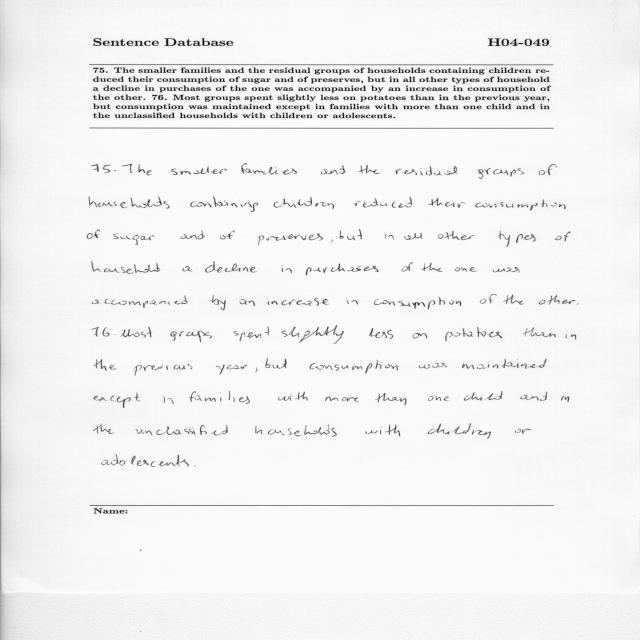word: (92, 295, 188, 308), (281, 325, 344, 344), (310, 360, 398, 373), (374, 297, 461, 310), (102, 454, 189, 467), (475, 199, 566, 211), (190, 197, 258, 212), (255, 425, 337, 437), (89, 197, 170, 209), (428, 424, 491, 439), (136, 425, 228, 435), (92, 261, 160, 274), (306, 264, 379, 276), (462, 359, 547, 369), (445, 327, 502, 341), (189, 391, 250, 404), (258, 234, 323, 246), (273, 197, 334, 209), (94, 393, 141, 408), (135, 364, 193, 376), (395, 166, 458, 176), (355, 197, 412, 208), (241, 164, 297, 175), (498, 231, 536, 247), (205, 262, 257, 273), (478, 168, 524, 179), (171, 166, 227, 175), (234, 327, 270, 341), (267, 298, 329, 306), (113, 233, 154, 245), (170, 331, 212, 342), (365, 425, 400, 437), (464, 391, 503, 401), (428, 198, 466, 208), (376, 393, 407, 405), (216, 364, 247, 375), (122, 164, 152, 175), (523, 328, 556, 338), (438, 231, 474, 240), (539, 295, 575, 304), (121, 327, 152, 337), (278, 392, 308, 401), (369, 328, 393, 339), (340, 230, 363, 241), (520, 392, 547, 401), (94, 359, 116, 370), (321, 165, 345, 175), (180, 231, 205, 240), (265, 359, 287, 369), (422, 262, 443, 272), (212, 295, 226, 310), (503, 295, 524, 305), (93, 424, 114, 434), (539, 165, 557, 176), (359, 165, 380, 174), (91, 164, 111, 173), (91, 327, 110, 336), (325, 397, 359, 402), (419, 363, 447, 369), (480, 294, 496, 304), (556, 232, 571, 242), (220, 231, 235, 240), (493, 267, 520, 272), (404, 233, 423, 240), (87, 229, 100, 239), (402, 262, 413, 272), (455, 267, 477, 272), (240, 299, 255, 306), (428, 396, 449, 401), (413, 333, 428, 339), (515, 429, 531, 434), (164, 397, 174, 404), (282, 268, 292, 274), (566, 334, 576, 340), (347, 300, 358, 305), (385, 234, 394, 240), (182, 267, 192, 272), (561, 396, 569, 402), (255, 367, 257, 372), (331, 240, 333, 243), (114, 170, 116, 171), (114, 334, 116, 335), (577, 304, 578, 305), (195, 466, 196, 467)
